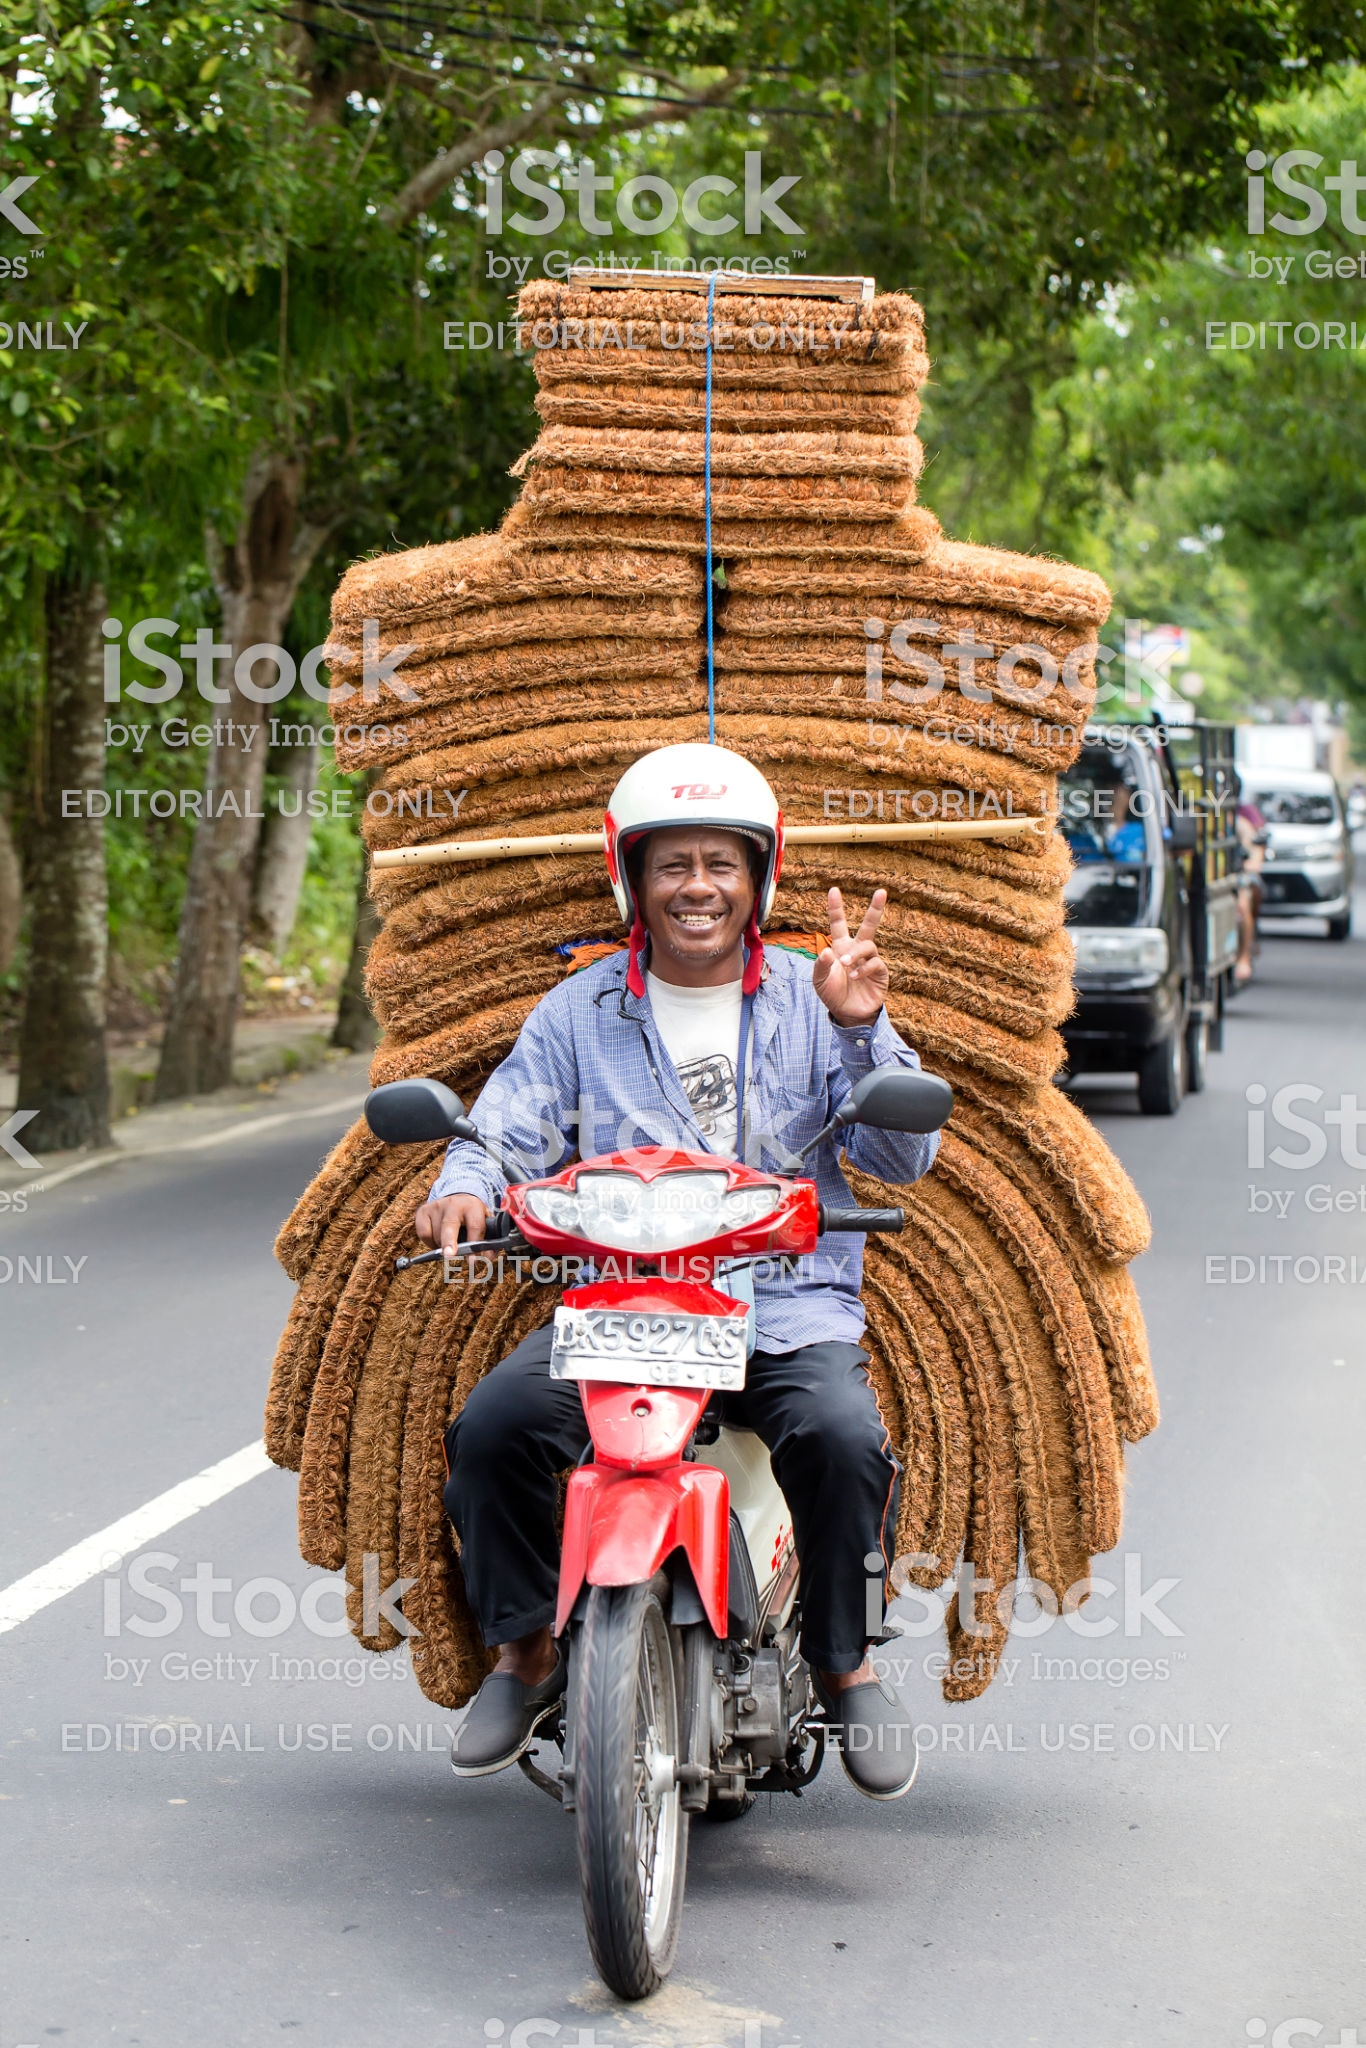helmet: (595, 734, 788, 888)
